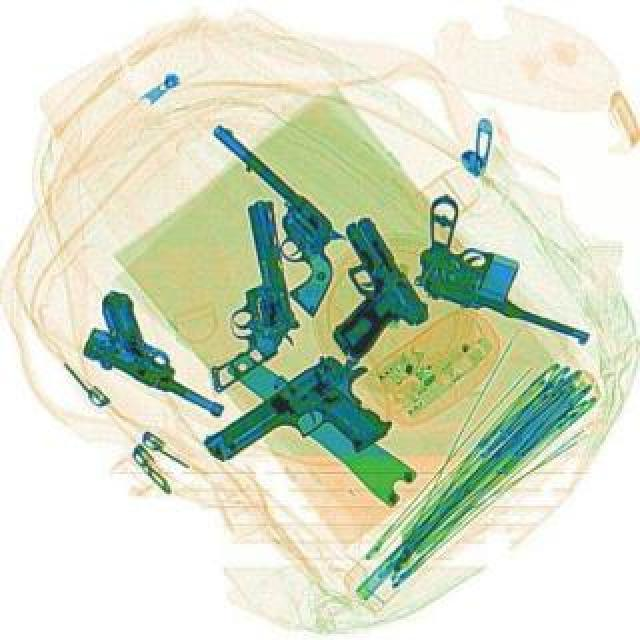gun: (158, 118, 374, 314), (196, 338, 408, 516), (400, 188, 622, 344), (68, 284, 254, 424), (182, 198, 308, 394), (284, 210, 436, 362)
